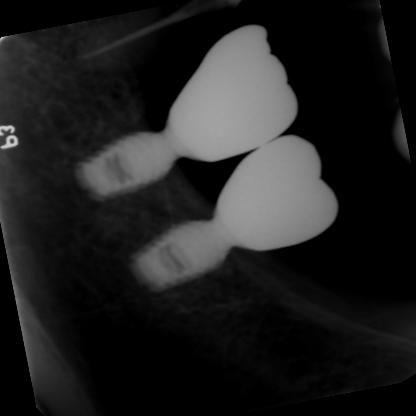Bicon: (129, 204, 250, 294), (69, 121, 189, 200)
